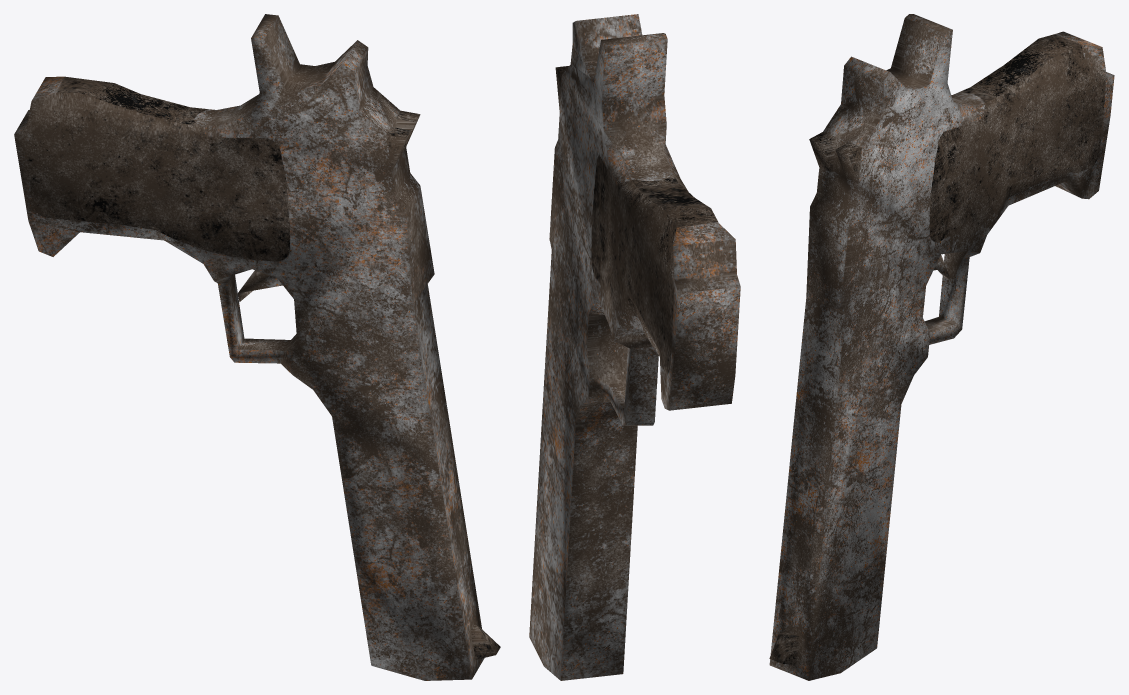
The model's file is Anim_idle_pistola_objetos.0034.obj.
3 views of the same model, side by side, from view 1: azimuth 30°, elevation 25°; view 2: azimuth 150°, elevation 25°; view 3: azimuth 270°, elevation 25° (orthographic). The views are drawn at different scales.
Visible parts, largest first — view 1: Pistola1; view 2: Pistola1; view 3: Pistola1.
Part boxes in pixels (bbox=[...]): Pistola1: bbox=[14, 14, 500, 680]; Pistola1: bbox=[529, 14, 740, 680]; Pistola1: bbox=[769, 14, 1114, 680].
Bounding box in the file's own units: 0.9177 × 1.66 × 0.8785.
